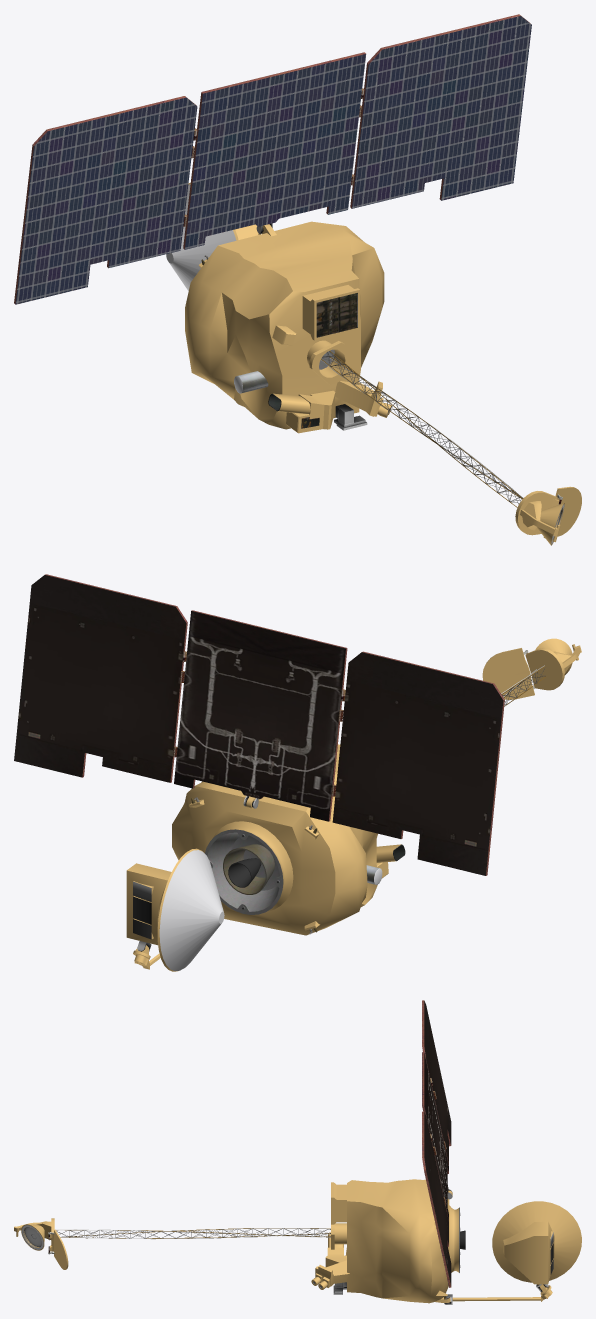
Rendered from mars-odyssey.glb.
3 views of the same model, one above another, from view 1: azimuth 30°, elevation 25°; view 2: azimuth 150°, elevation 25°; view 3: azimuth 270°, elevation 25° (orthographic). The views are drawn at different scales.
Parts seen in each view (by area): view 1: shiny_panel, foil_gold, tex_02, tex_boom, tex_01, foil_silver; view 2: tex_01, tex_02, foil_gold, foil_silver, tex_04, normal_panels; view 3: foil_gold, tex_01, tex_02, tex_boom.
Boxes of the visible parts, box(x1,y1,x2,y2) form: shiny_panel: box(15, 16, 531, 304); foil_gold: box(185, 183, 581, 545); tex_02: box(14, 14, 530, 369); tex_boom: box(321, 351, 523, 507); tex_01: box(183, 88, 562, 504); foil_silver: box(166, 184, 242, 393); tex_01: box(14, 575, 534, 887); tex_02: box(45, 574, 504, 914); foil_gold: box(126, 638, 581, 971); foil_silver: box(159, 850, 382, 970); tex_04: box(191, 798, 378, 932); normal_panels: box(133, 881, 151, 939); foil_gold: box(14, 1179, 581, 1303); tex_01: box(48, 1001, 546, 1303); tex_02: box(422, 1000, 460, 1287); tex_boom: box(56, 1228, 330, 1239).
Bounding box in the file's own units: 5.67 × 3.36 × 8.22.
Materials: 11 (9 with a texture image).
